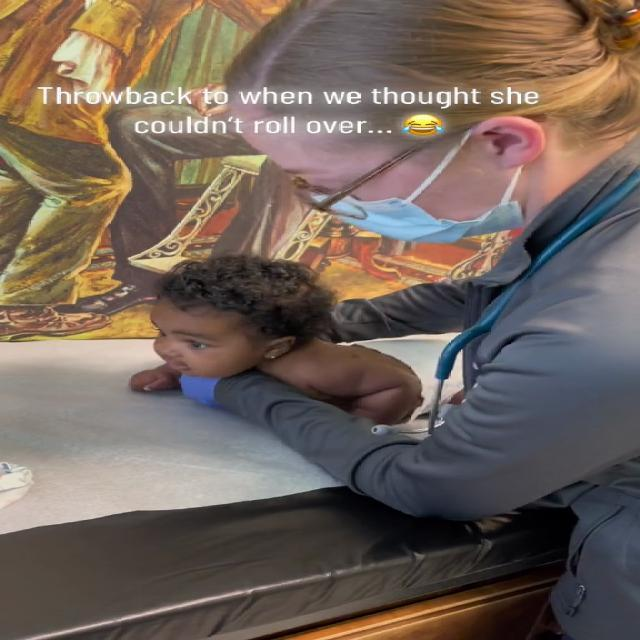baby: (118, 258, 513, 432)
